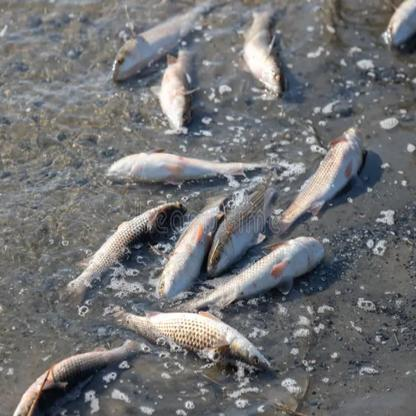deceased fish: (59, 202, 189, 309), (106, 2, 245, 82), (107, 305, 272, 372), (267, 123, 365, 232), (186, 233, 326, 307), (107, 151, 262, 180), (241, 10, 286, 94), (160, 54, 199, 132)
